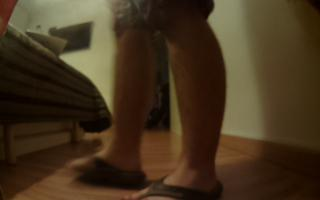person: (73, 1, 229, 200)
